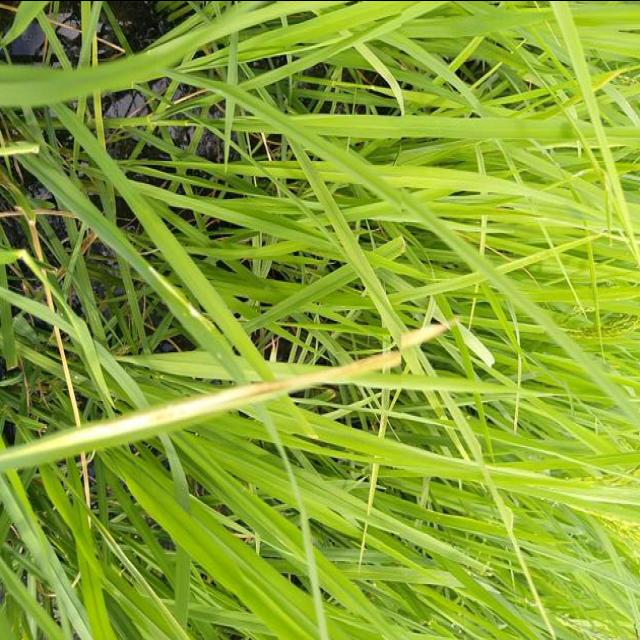Leaf Blight: (0, 317, 446, 470)
